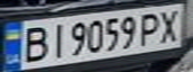0: (84, 17, 106, 54)
5: (103, 15, 124, 52)
9: (118, 14, 142, 50), (66, 19, 87, 56)
B: (15, 22, 51, 63)
I: (45, 20, 69, 60)
P: (136, 10, 166, 47)
X: (154, 7, 187, 44)
